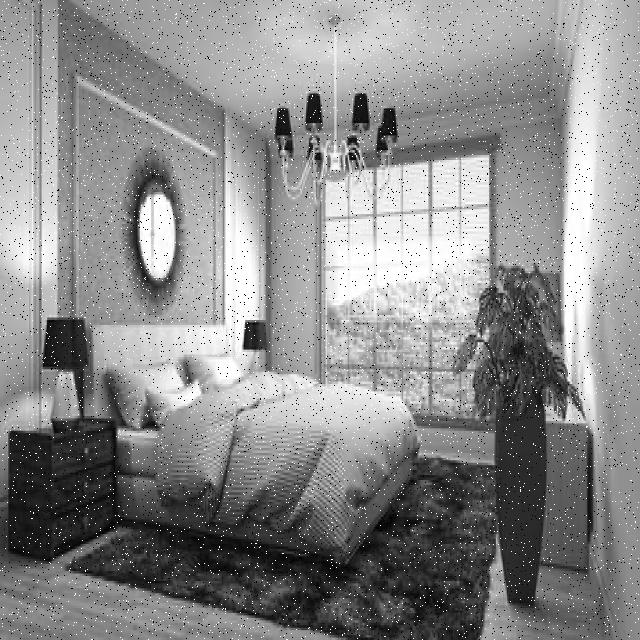bed: (100, 348, 418, 552)
